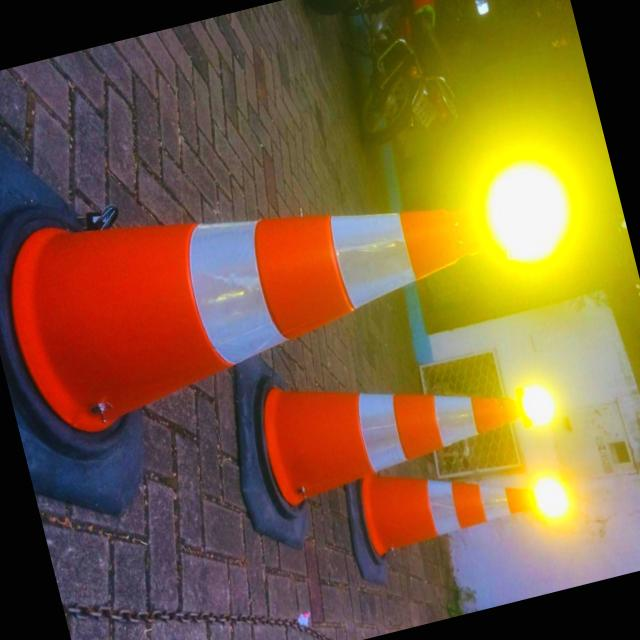cone: (0, 95, 535, 460), (225, 320, 564, 544)
